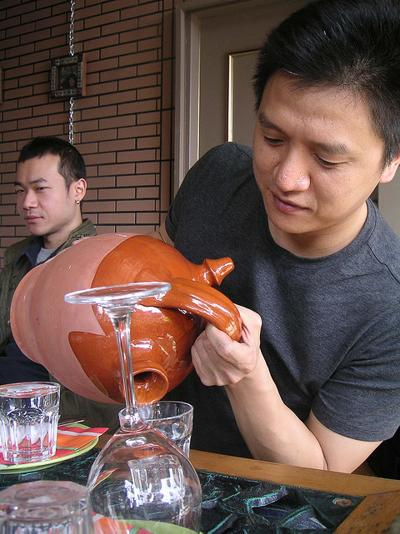person: (150, 3, 400, 477)
